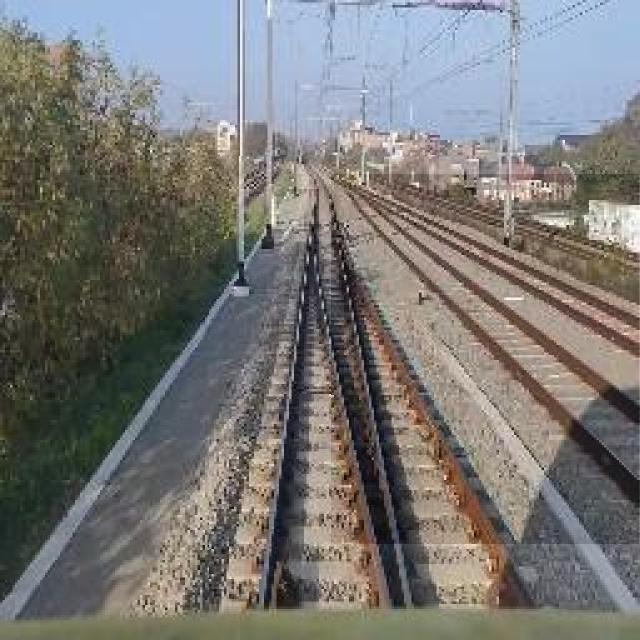rail: (211, 158, 568, 620), (333, 175, 640, 545)
